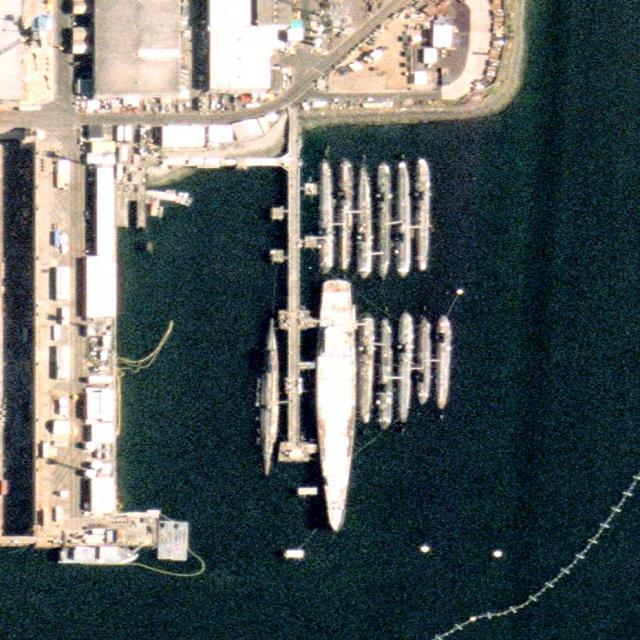Dock: (273, 154, 314, 464)
Submarine: (259, 320, 281, 476), (394, 162, 414, 276), (375, 162, 393, 279), (356, 314, 375, 422), (395, 310, 413, 420), (434, 315, 452, 407), (320, 162, 333, 275), (379, 319, 392, 429), (359, 167, 371, 277), (340, 160, 351, 270), (418, 159, 428, 270), (418, 318, 430, 405)
